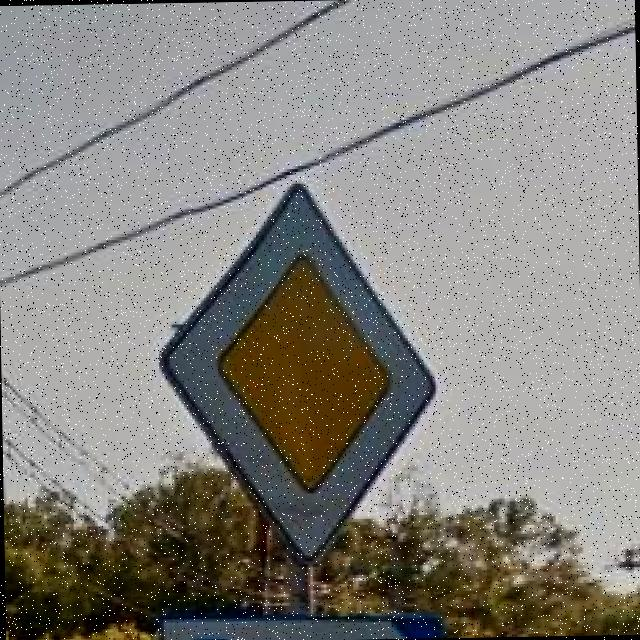Droga z pierwszenstwem: (156, 181, 440, 572)
